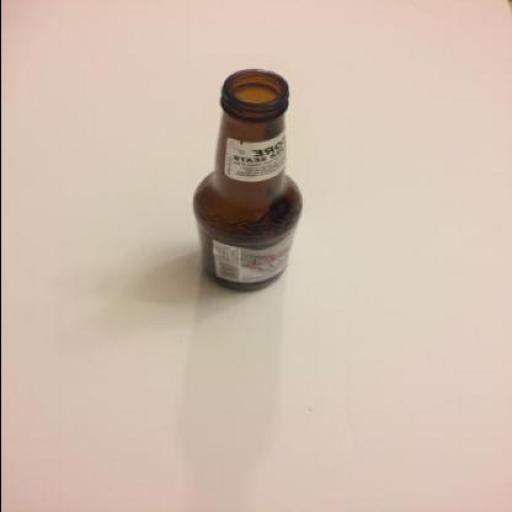glass: (192, 68, 302, 289)
